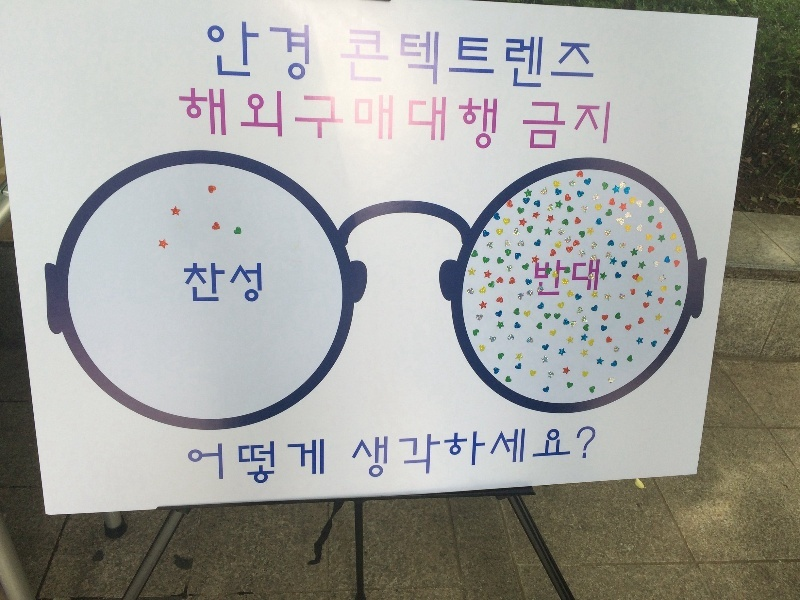text: (177, 86, 192, 153), (193, 86, 208, 153), (209, 86, 224, 153), (225, 86, 240, 153), (241, 86, 256, 153), (257, 86, 272, 153), (273, 86, 288, 153), (289, 86, 304, 153), (305, 86, 320, 153), (321, 86, 336, 153), (337, 86, 352, 153), (353, 86, 368, 153), (369, 86, 384, 153), (385, 86, 400, 153), (401, 86, 416, 153), (417, 86, 432, 153), (433, 86, 448, 153), (449, 86, 464, 153), (465, 86, 480, 153), (481, 86, 496, 153), (353, 26, 368, 92), (369, 26, 384, 92), (385, 26, 400, 92), (401, 26, 416, 92), (417, 26, 432, 92), (433, 26, 448, 92), (449, 26, 464, 92), (465, 26, 480, 92), (481, 26, 496, 92), (497, 26, 512, 92), (513, 26, 528, 92), (529, 26, 544, 92), (545, 26, 560, 92), (561, 26, 576, 92), (577, 26, 592, 92), (209, 21, 224, 85), (225, 21, 240, 85), (241, 21, 256, 85), (257, 21, 272, 85), (273, 21, 288, 85), (289, 21, 304, 85), (369, 424, 384, 484), (385, 424, 400, 484), (401, 424, 416, 484), (417, 424, 432, 484), (433, 424, 448, 484), (449, 424, 464, 484), (465, 424, 480, 484), (481, 424, 496, 484), (497, 424, 512, 484), (513, 424, 528, 484), (529, 424, 544, 484), (545, 424, 560, 484), (561, 424, 576, 484), (577, 424, 592, 484), (529, 98, 544, 154), (545, 98, 560, 154), (561, 98, 576, 154), (577, 98, 592, 154), (593, 98, 608, 154), (340, 26, 352, 92), (193, 438, 208, 487), (209, 438, 224, 487), (225, 438, 240, 487), (241, 438, 256, 487), (257, 438, 272, 487), (273, 438, 288, 487), (289, 438, 304, 487), (305, 438, 320, 487), (193, 263, 208, 304), (209, 263, 224, 304), (225, 263, 240, 304), (241, 263, 256, 304), (545, 258, 560, 297), (561, 258, 576, 297), (577, 258, 592, 297), (360, 424, 368, 484), (182, 263, 192, 304), (521, 98, 528, 154), (305, 21, 311, 85), (535, 258, 544, 297), (185, 438, 192, 487), (593, 258, 601, 297), (497, 86, 501, 153), (593, 26, 597, 92), (204, 21, 208, 85), (257, 263, 263, 304), (593, 424, 597, 484), (609, 98, 613, 154), (321, 438, 325, 487), (175, 86, 176, 153)
